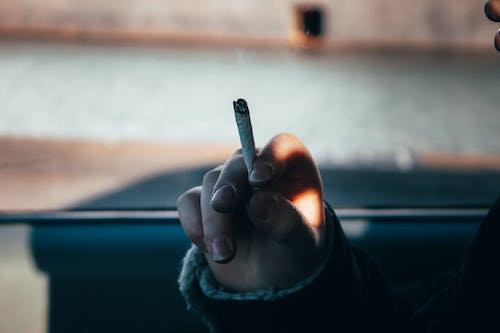cigarette: (230, 96, 260, 174)
